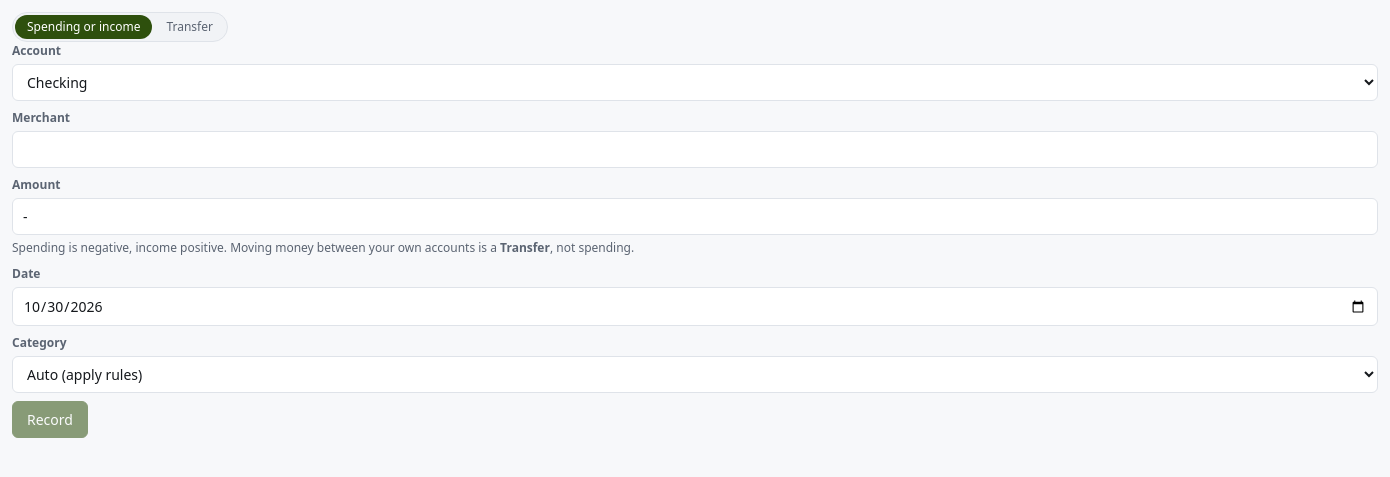
recording spending or income › posts the transaction, refreshes the list and clears the merchant and amount
The image size is (1390, 477).
Type "Cafe" into the field labelled "Merchant".
click(695, 150); type("Cafe")  # box [12,131,1378,168]
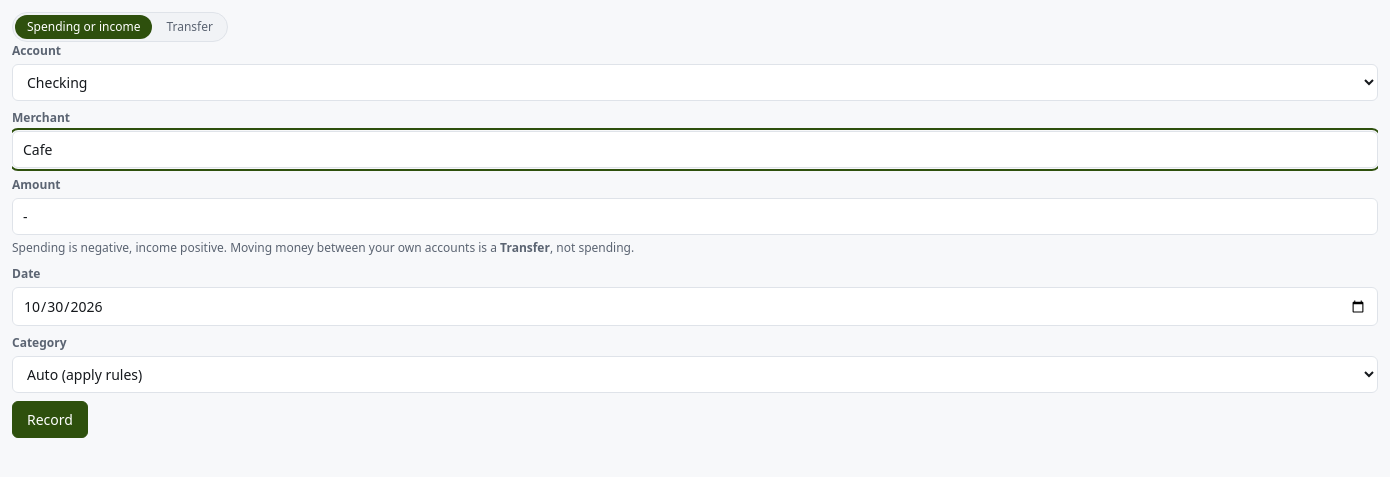
Replace the text in the field labelled "Amount" with "-4.50" at (695, 217), box [12,198,1378,235]
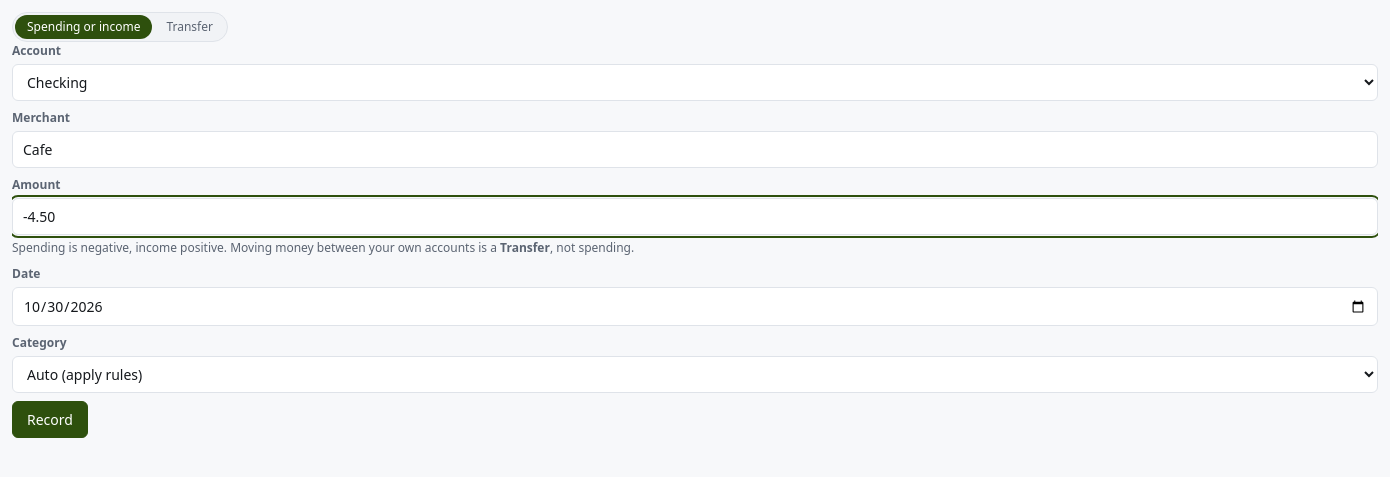
Select "Savings" in the dropdown labelled "Account" at (695, 83), box [12,64,1378,101]
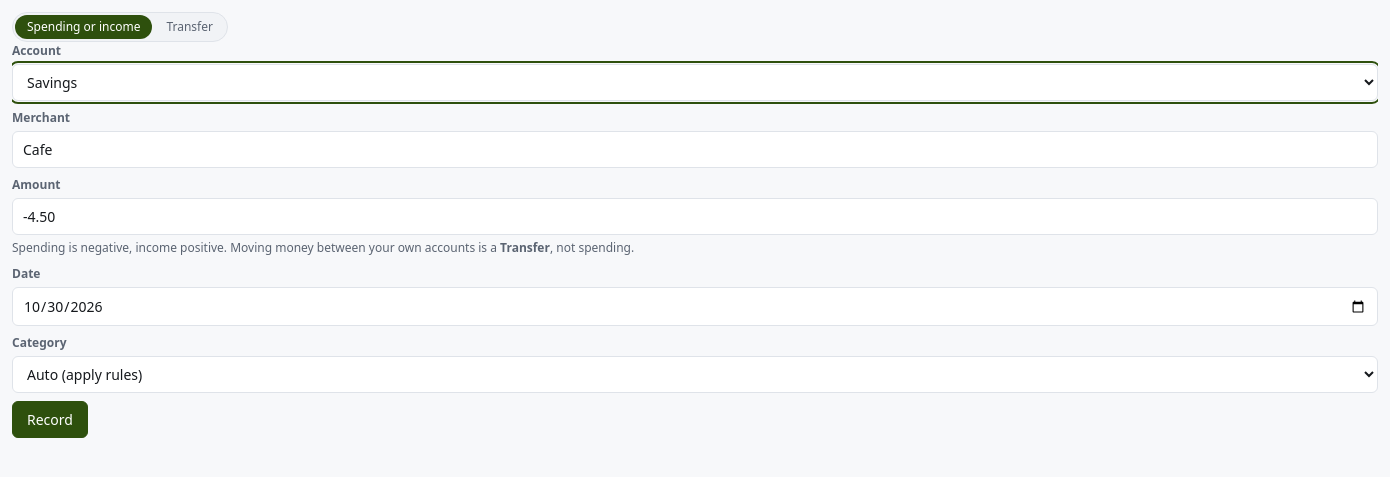
Select "Groceries" in the dropdown labelled "Category" at (695, 375), box [12,356,1378,393]
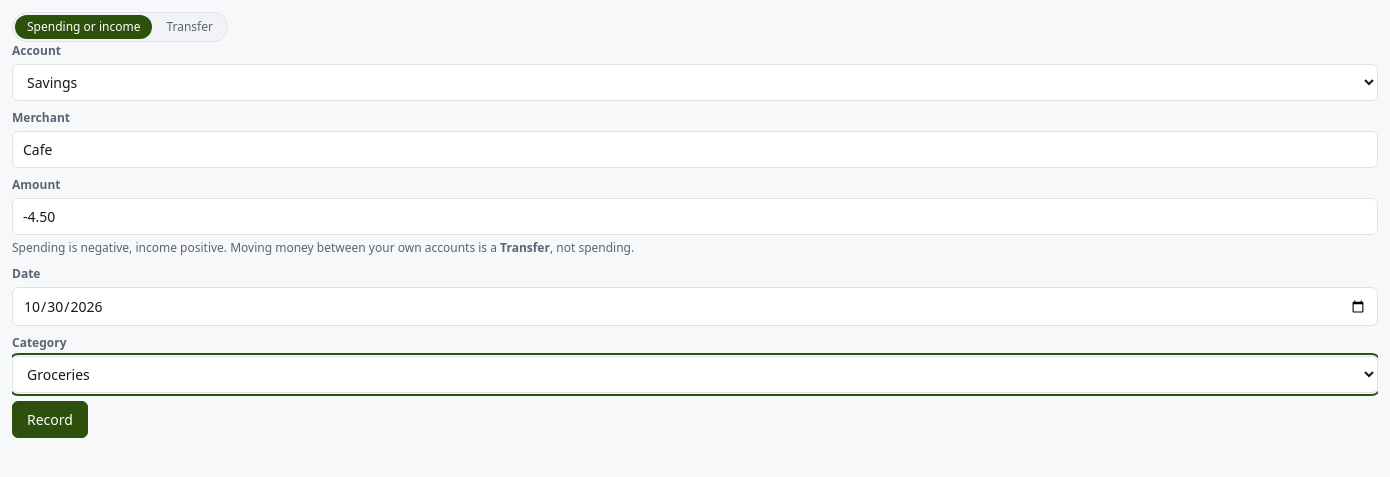
Click the button "Record".
click(50, 420)  # box [12,401,88,438]
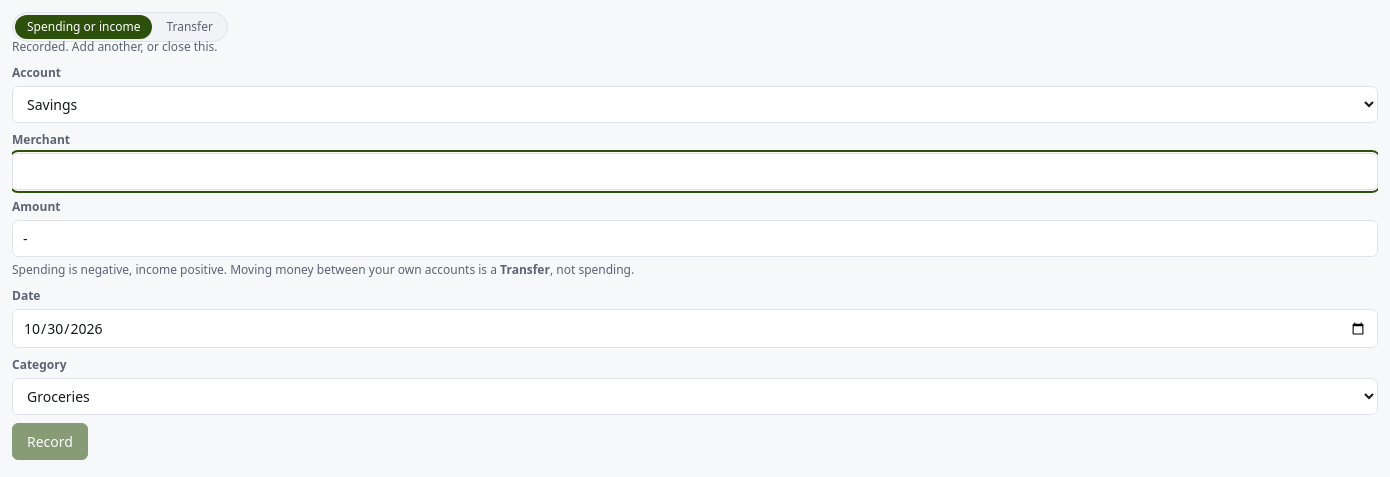
Check: the field labelled "Merchant" is empty, box [12,153,1378,190]
Check: the field labelled "Amount" holds "-", box [12,220,1378,257]
